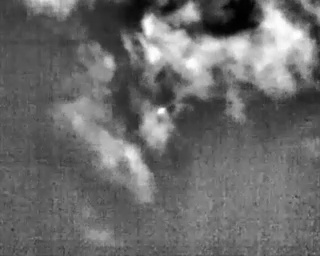AIRPLANE: (125, 118, 137, 132)
